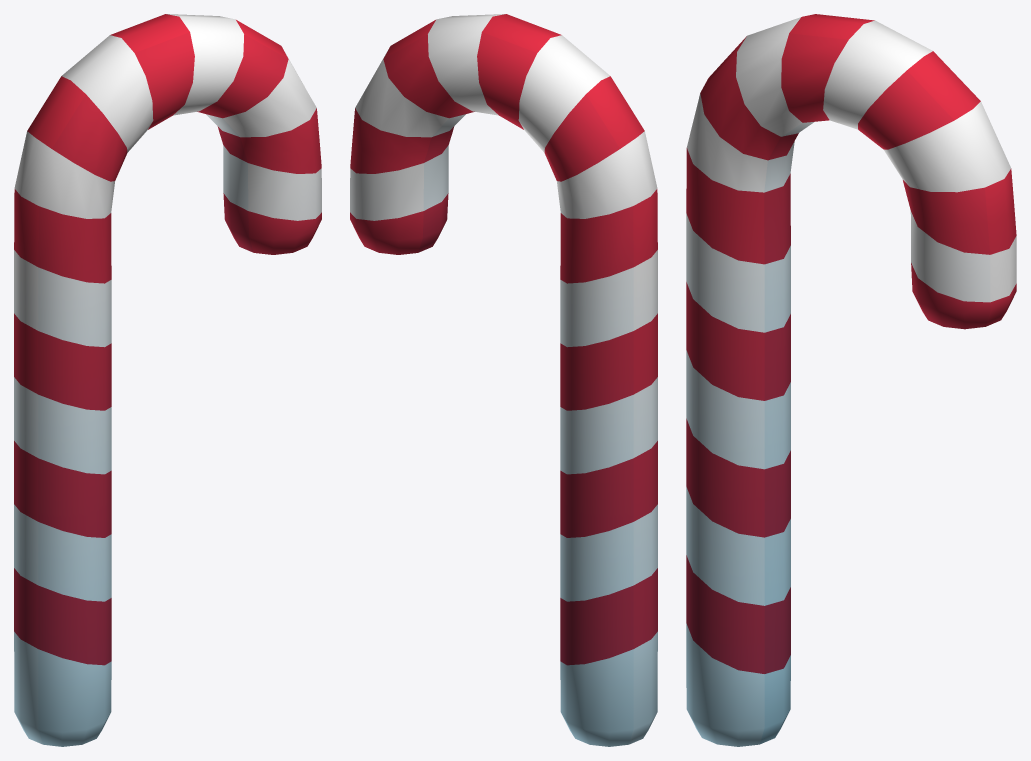
File: candycane_large.obj
The picture shows the model from 3 angles, left to right: view 1: azimuth 30°, elevation 25°; view 2: azimuth 150°, elevation 25°; view 3: azimuth 330°, elevation 25°; orthographic projection. The views are drawn at different scales.
Parts seen in each view (by area): view 1: candycane_large; view 2: candycane_large; view 3: candycane_large.
Boxes of the visible parts, x1,y1,x2,y2 form: candycane_large: (14, 14, 321, 746); candycane_large: (350, 14, 657, 746); candycane_large: (686, 14, 1016, 746).
Bounding box in the file's own units: 1.43 × 3.23 × 0.4196.
1 material, 1 textured.
